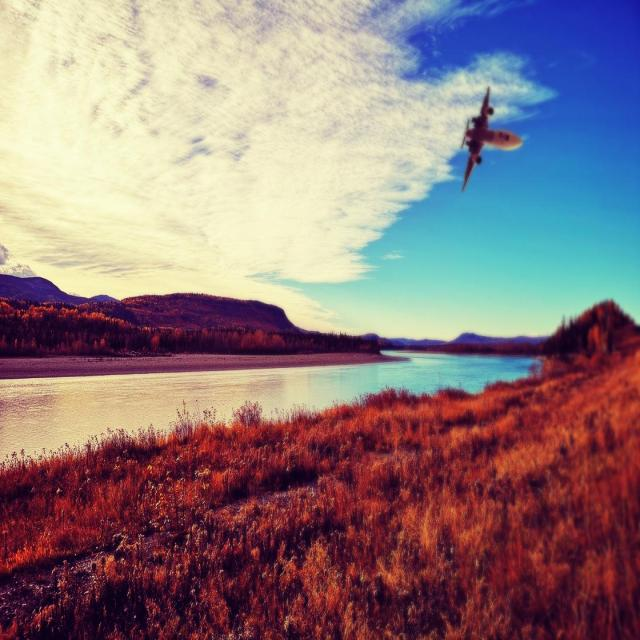airplane: (460, 85, 522, 193)
